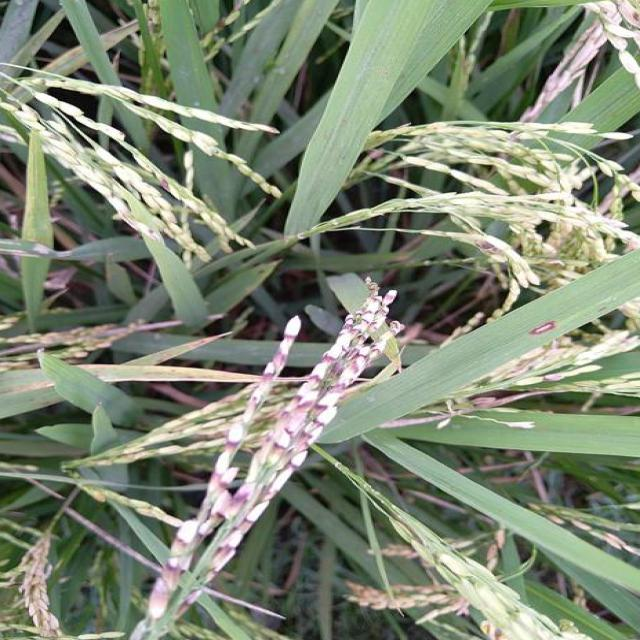Panicle Blight: (129, 299, 406, 640)
